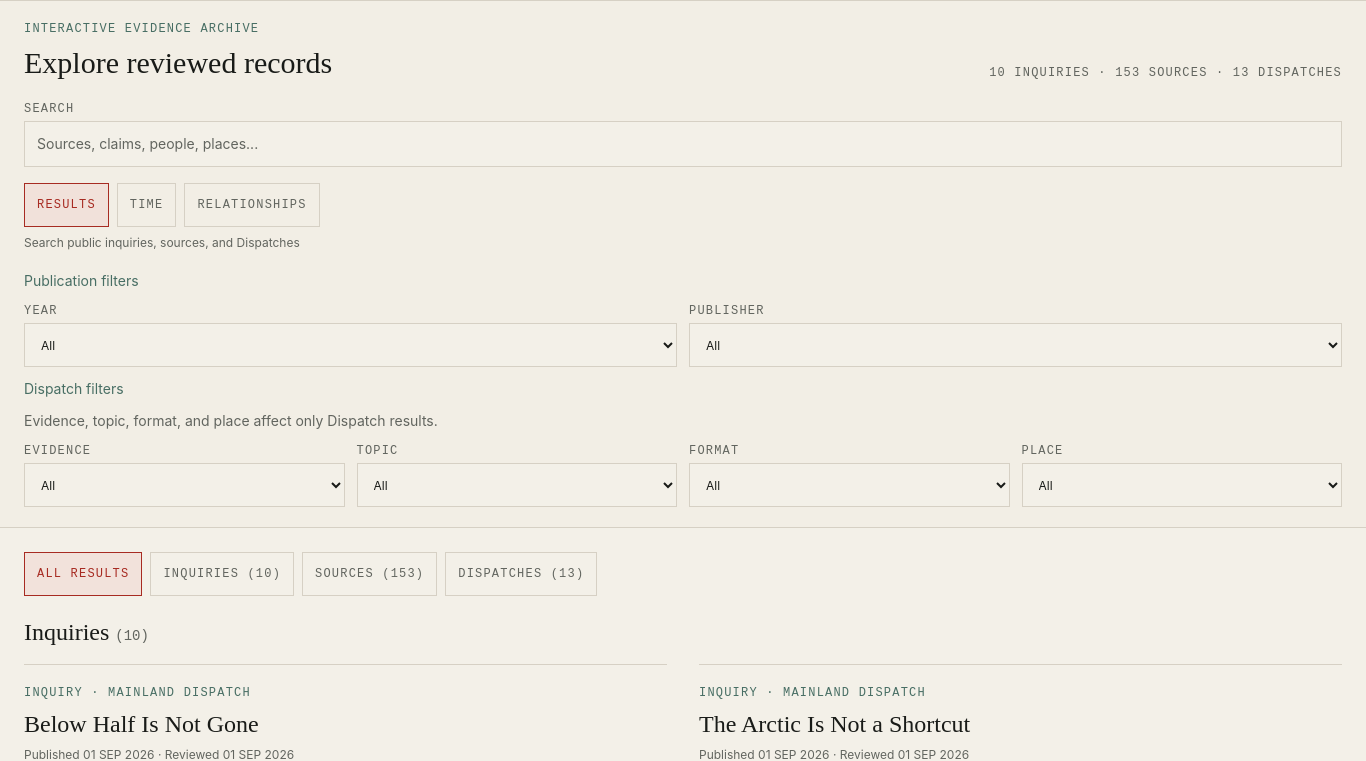
ArchiveExplorer publication boundary and views › switches between timeline and relationship views
The image size is (1366, 761).
Click the button "Time". click: (147, 205)
box: [117, 183, 176, 227]
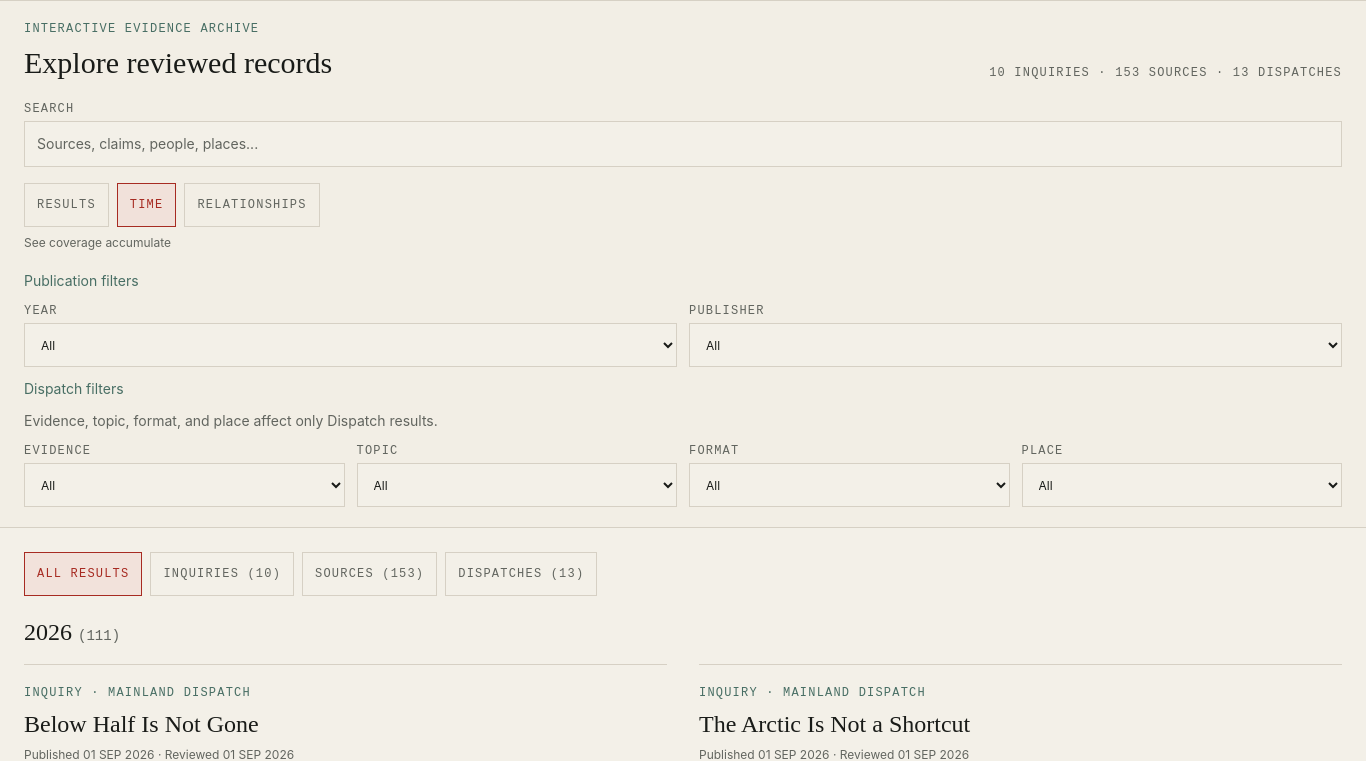
Expected: the heading "Explore reviewed records" is shown, [24, 45, 332, 81]
Result: the text "See coverage accumulate" is shown at [24, 235, 171, 250]
Click the button "Relationships". click: (252, 205)
box: [184, 183, 320, 227]
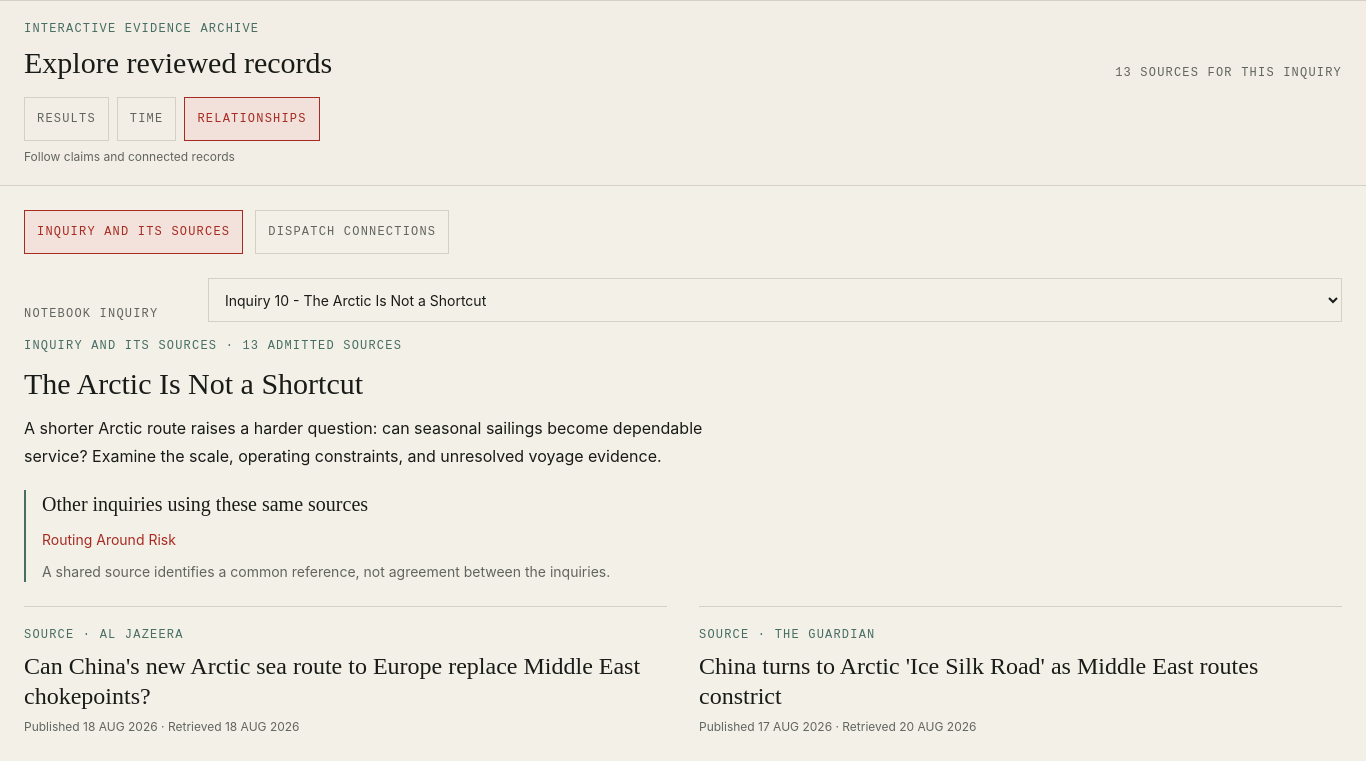
Expected: the heading "The Arctic Is Not a Shortcut" is shown, [24, 367, 363, 400]
Result: the dropdown labelled "Notebook inquiry" shows "Inquiry 10 - The Arctic Is Not a Shortcut"
Select "Inquiry 01 - What Xi Jinping Wants" in the dropdown labelled "Notebook inquiry". click: (775, 300)
box: [208, 278, 1342, 322]
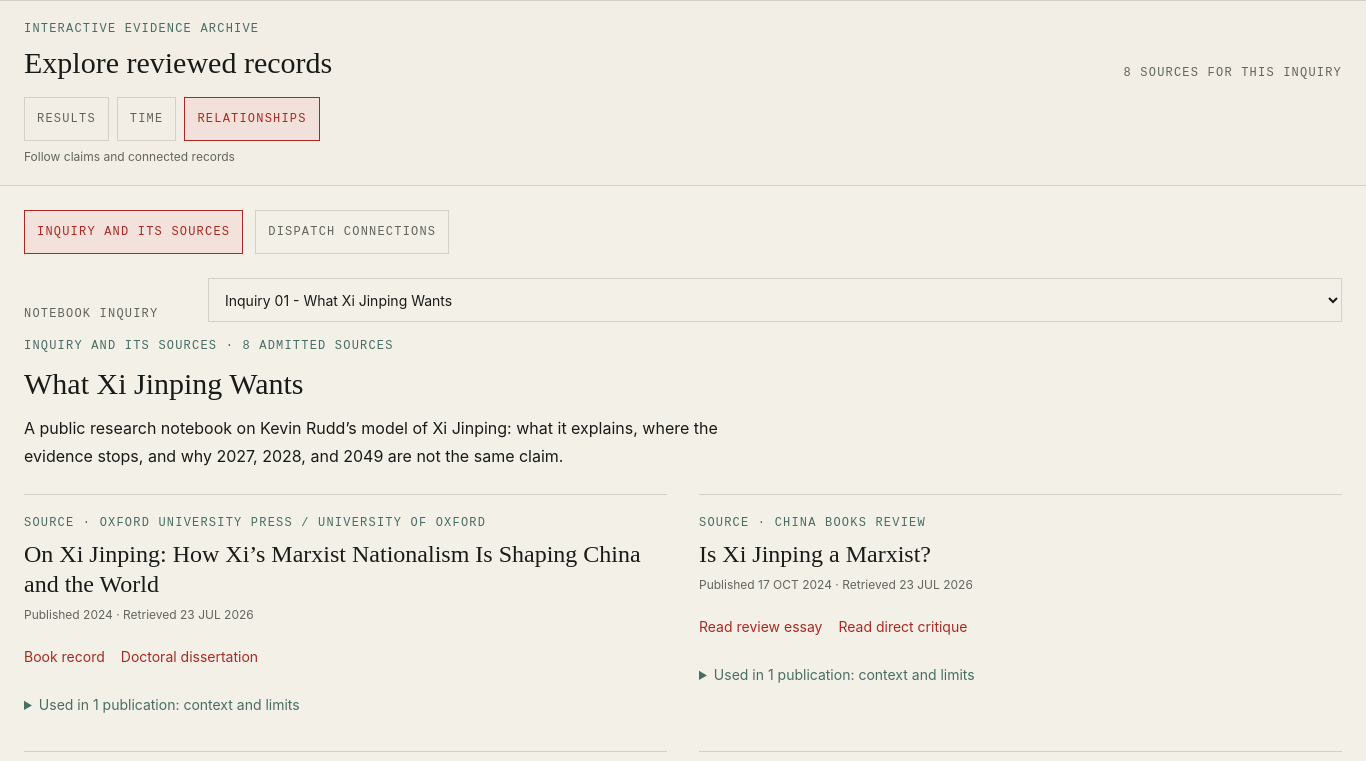
Result: the heading "What Xi Jinping Wants" is shown at [24, 367, 304, 400]
